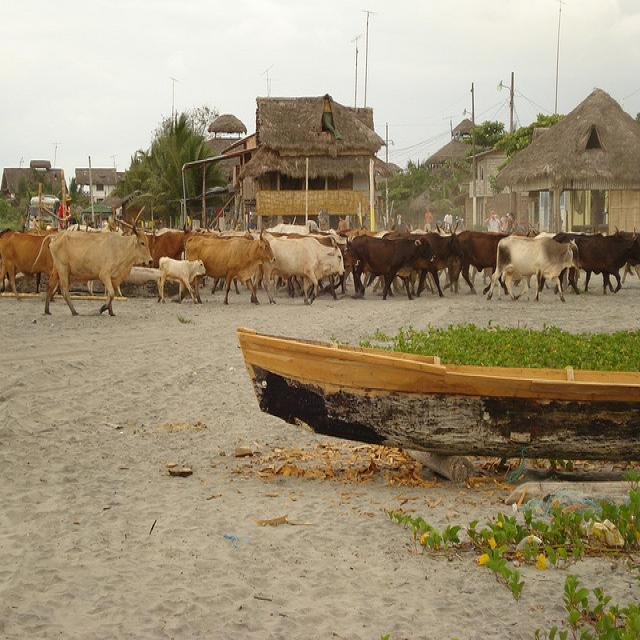cow: (28, 217, 152, 315), (181, 227, 276, 308), (249, 234, 342, 306), (485, 235, 580, 300), (349, 235, 435, 299), (574, 225, 639, 292), (0, 223, 53, 304), (459, 229, 508, 295), (414, 231, 458, 295), (133, 222, 189, 266), (156, 255, 205, 303)
